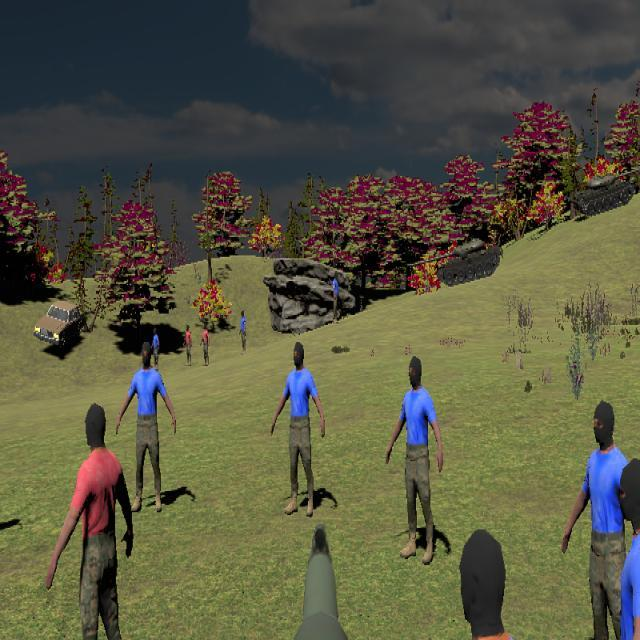Human: (46, 398, 136, 640), (46, 400, 134, 640), (561, 398, 640, 640), (385, 354, 444, 565), (116, 342, 177, 514), (271, 341, 326, 516), (617, 462, 640, 640)
Tank: (408, 237, 503, 287), (567, 173, 635, 216)
car: (33, 302, 83, 350)
